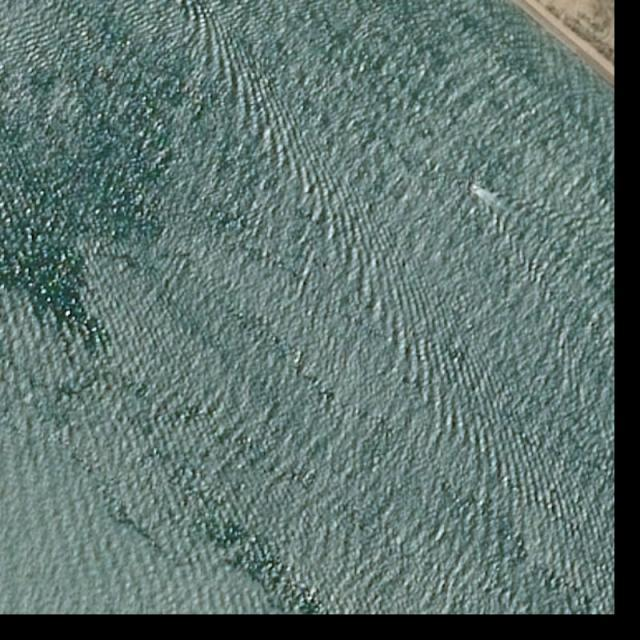ship: (470, 184, 482, 194)
